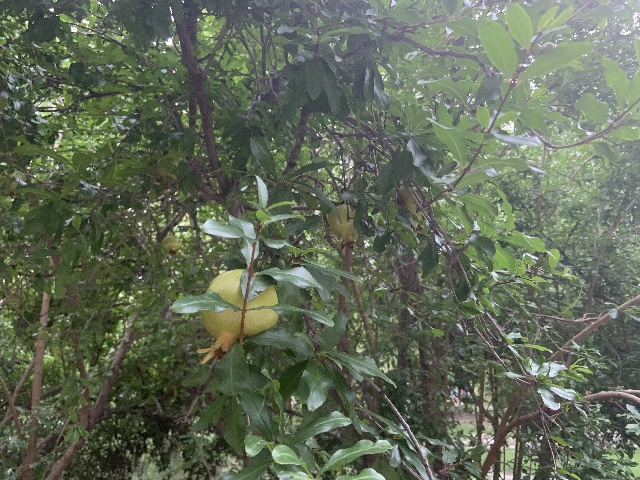mid-growth: (196, 268, 280, 364), (398, 185, 435, 236), (327, 204, 361, 250), (161, 234, 181, 256)
